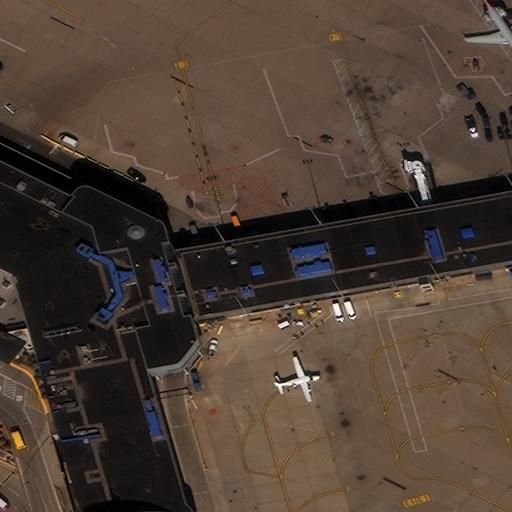Medium Civil Transport: (466, 0, 512, 64), (273, 356, 319, 403)
